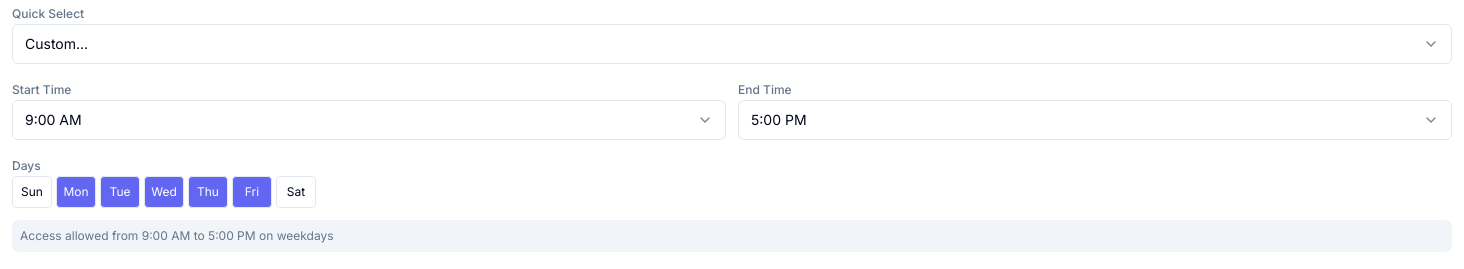
Scenario: TimePicker › preset selection › has Business Hours preset option
// Open the preset dropdown
Click the dropdown labelled "Custom..." at (57, 44), box left=12, top=24, right=1452, bottom=64
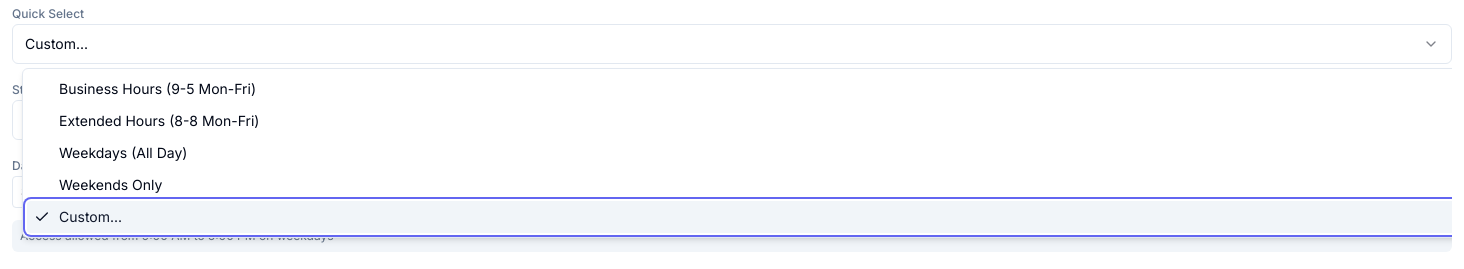
Expected: the text "Business Hours (9-5 Mon-Fri)" is shown, left=59, top=79, right=256, bottom=99
